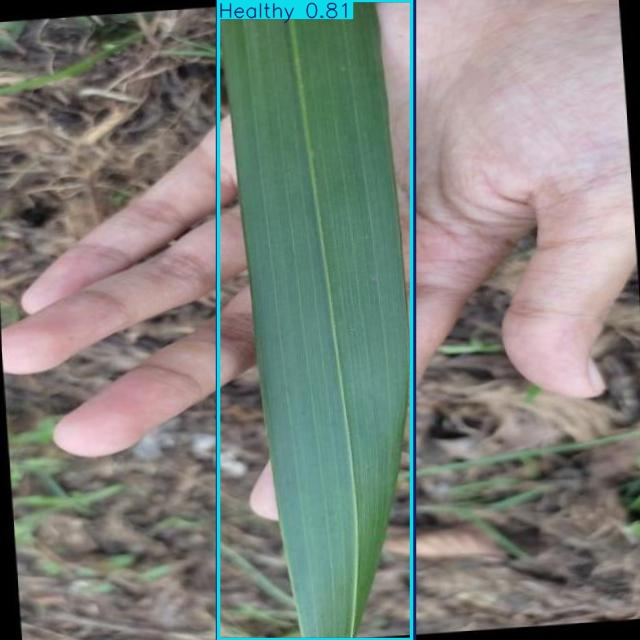Healthy: (218, 1, 412, 639)
nitrogen: (217, 1, 414, 640)
